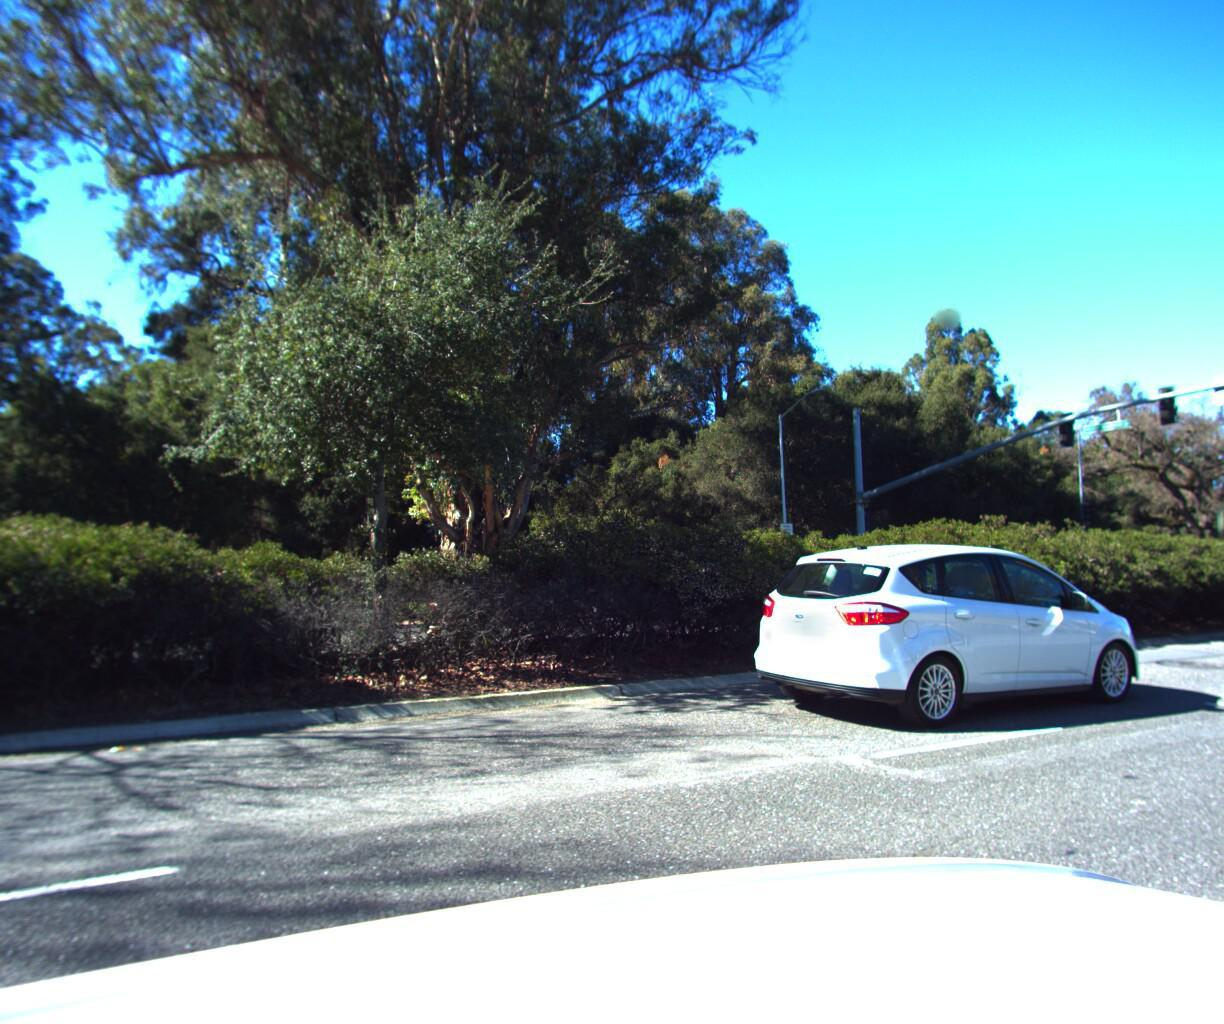car: (734, 529, 1184, 739)
